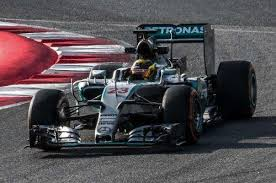FormulaOneCar: (23, 21, 260, 157)
